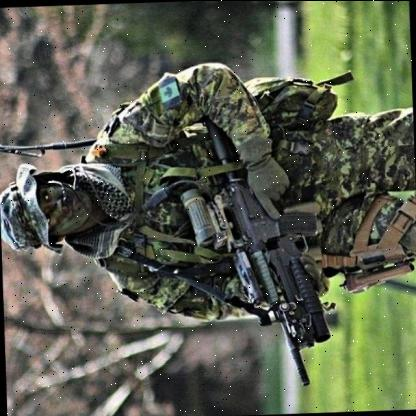rifle: (206, 133, 338, 377)
